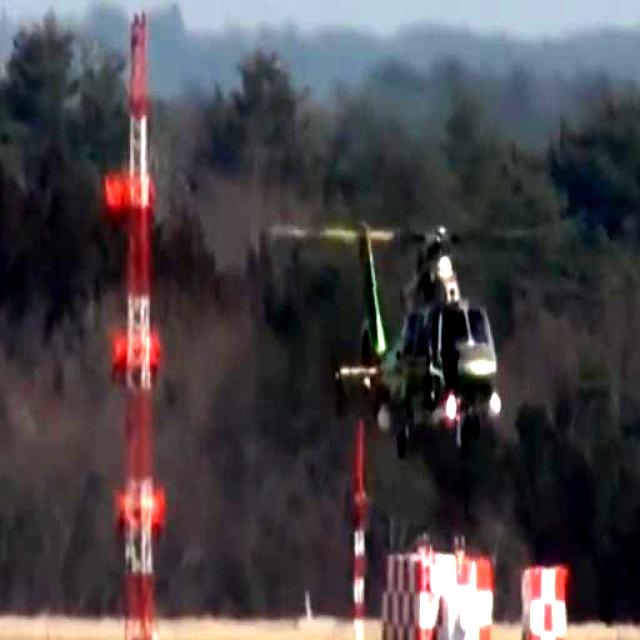drone: (314, 205, 521, 458)
